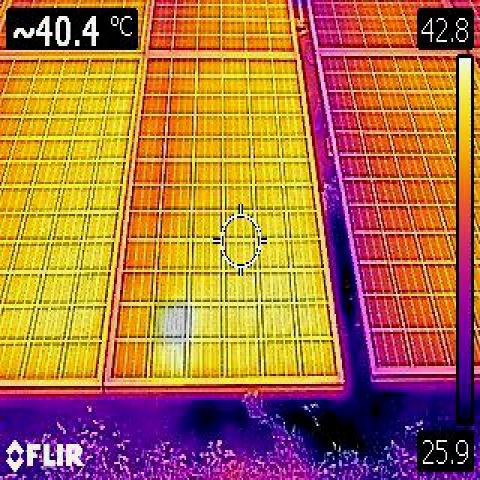fault: (154, 300, 188, 342)
